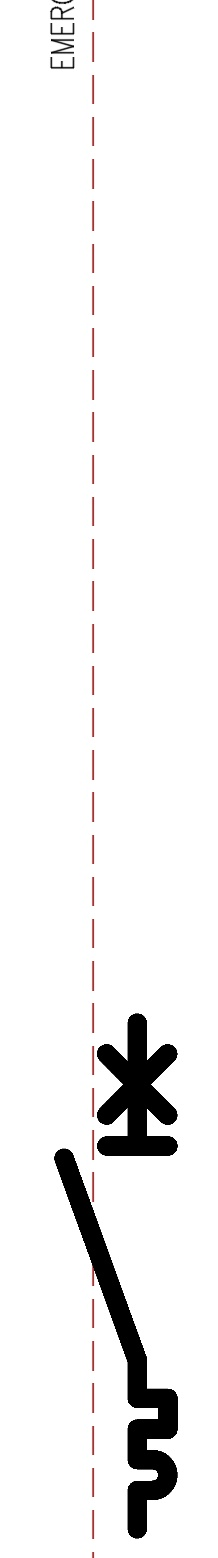interruptor_termomagnetico: (51, 1010, 181, 1542)
